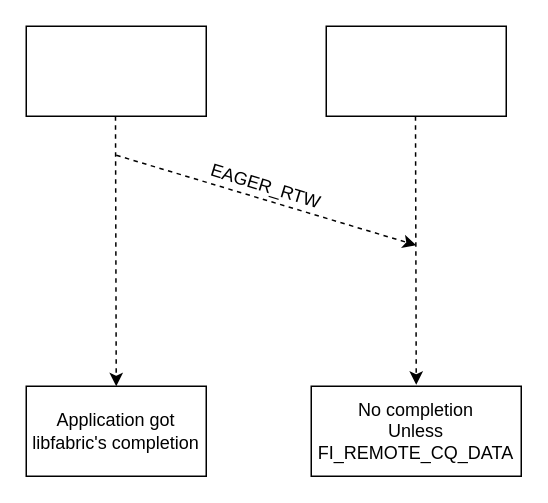
Some shapes in this 548 by 503 pixel diagram are drawn without their labels. The box of each missing label's shape, as (x1, y1, x2, y2) in pixels:
Application call libfabric's write API: (25, 25, 206, 116)
Responder's progress engine: (325, 25, 506, 116)
